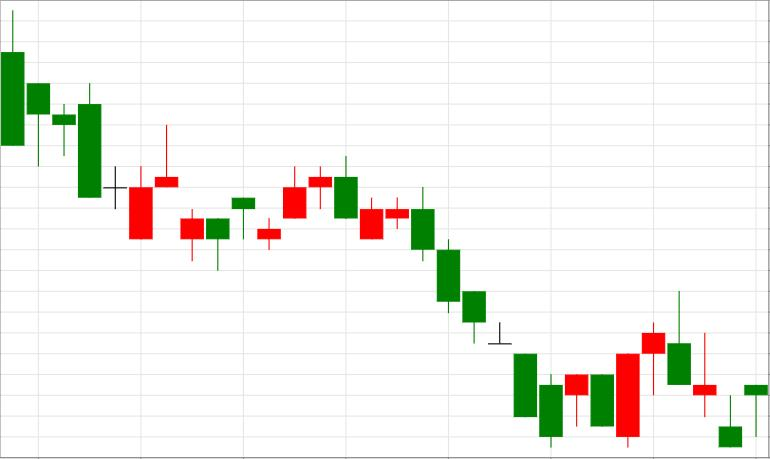bullish_engulfing_rise: (411, 187, 639, 446)
